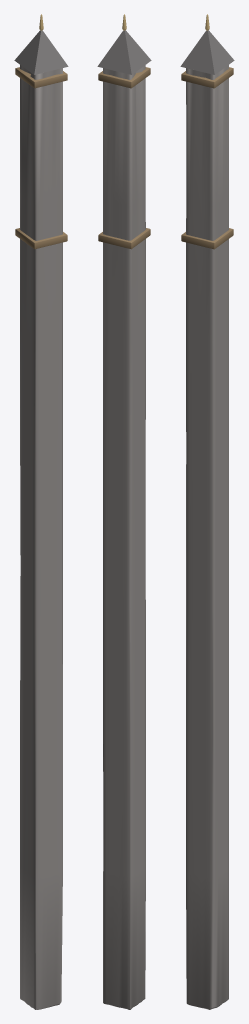
File: SM_Area2_Pylon.glb
3 views of the same model, side by side, from view 1: azimuth 30°, elevation 25°; view 2: azimuth 150°, elevation 25°; view 3: azimuth 330°, elevation 25° (orthographic).
Visible parts, largest first — view 1: SM_Area2_Pylon; view 2: SM_Area2_Pylon; view 3: SM_Area2_Pylon.
Part boxes in pixels (bbox=[...]): SM_Area2_Pylon: bbox=[14, 14, 68, 1009]; SM_Area2_Pylon: bbox=[97, 14, 151, 1009]; SM_Area2_Pylon: bbox=[180, 14, 234, 1009].
Size of the model in its own units: 1.34 by 36.85 by 1.34.
